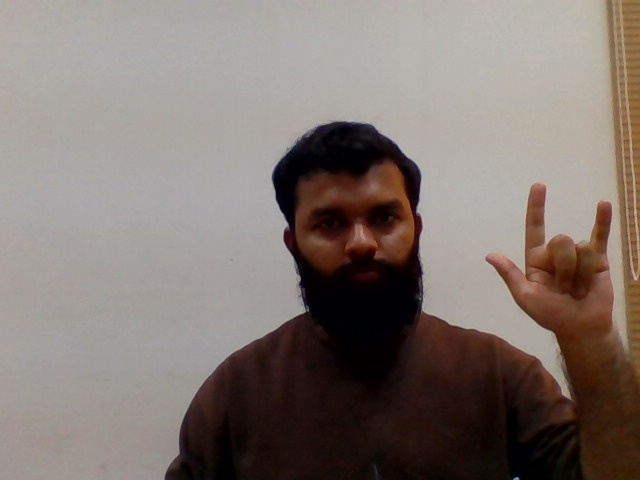I Love you: (475, 175, 636, 341)
